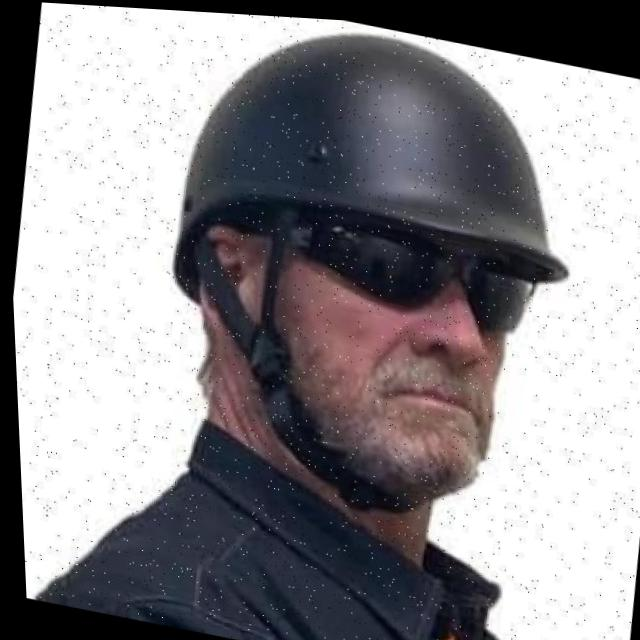helmet: (128, 6, 605, 548)
